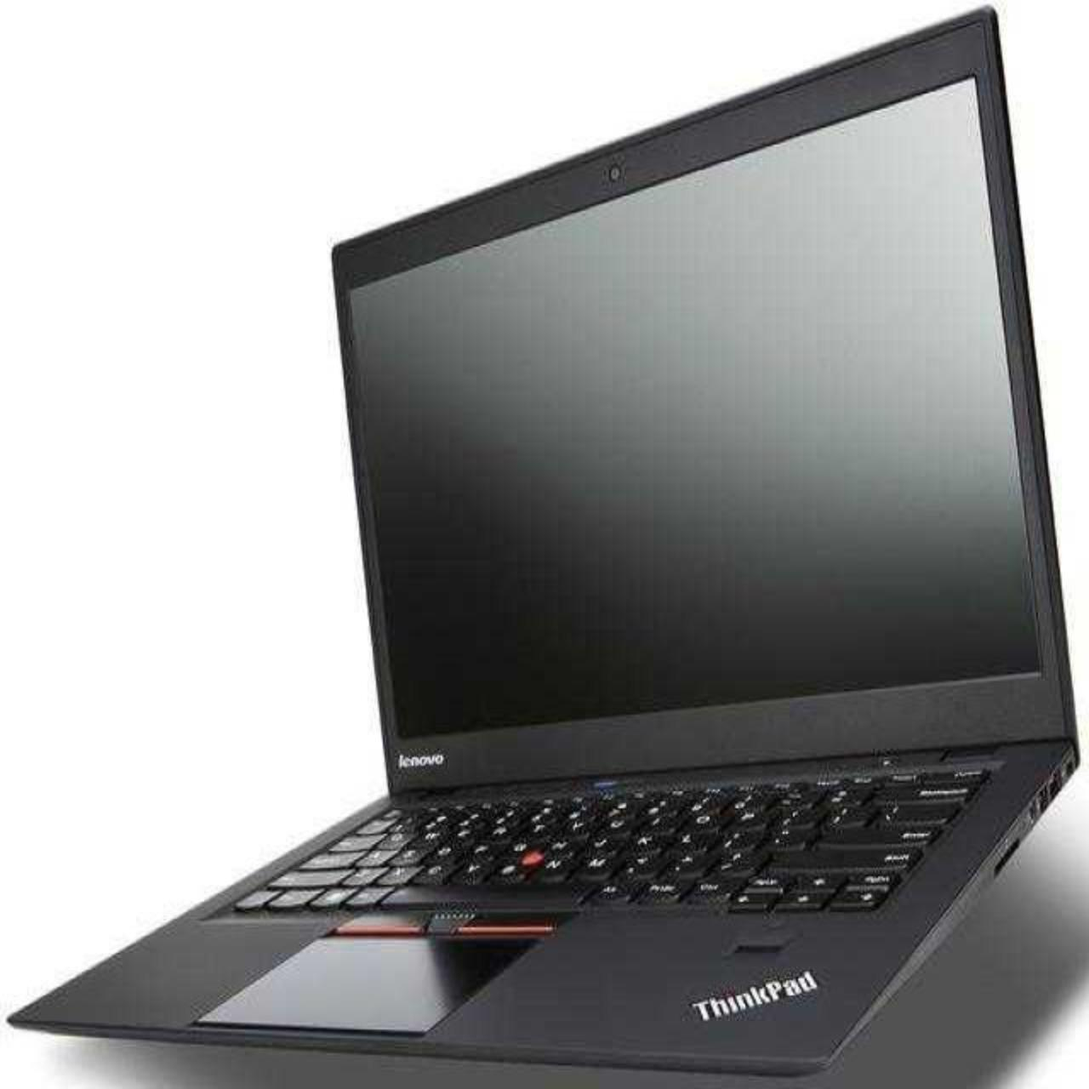laptop: (35, 12, 1088, 1067)
